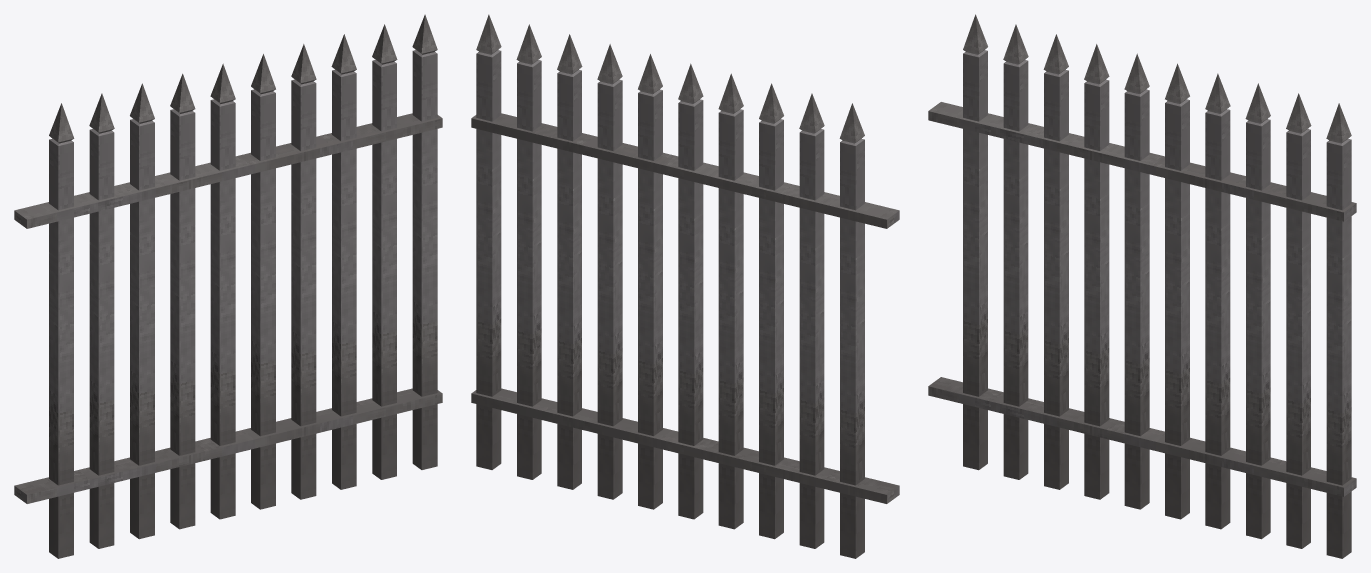
File: lf_brick_wall_gate.glb
3 renders of one model, left to right at view 1: azimuth 30°, elevation 25°; view 2: azimuth 150°, elevation 25°; view 3: azimuth 330°, elevation 25°, orthographic.
Visible parts, largest first — view 1: brick_wall_gate; view 2: brick_wall_gate; view 3: brick_wall_gate.
Boxes of the visible parts, x1,y1,x2,y2 form: brick_wall_gate: (14, 14, 442, 558); brick_wall_gate: (471, 14, 899, 558); brick_wall_gate: (928, 14, 1356, 558).
Size of the model in its own units: 1.58 by 1.64 by 0.084.
Materials: 1 (1 with a texture image).
